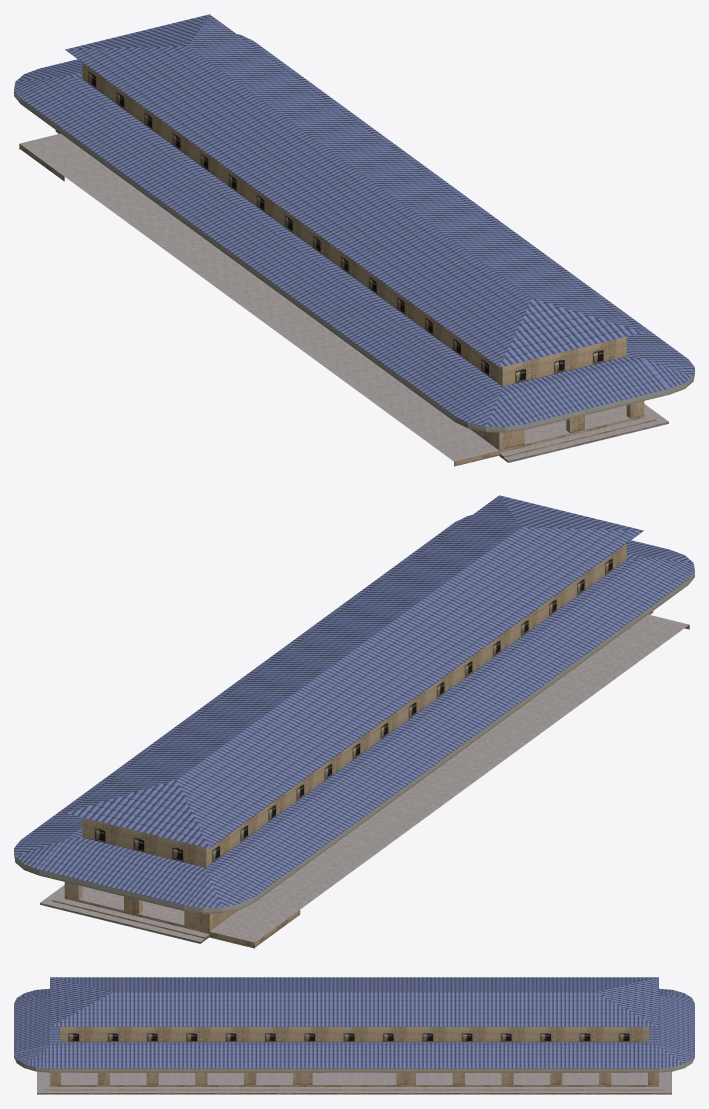
The model's file is vgstrainstation.obj.
The picture shows the model from 3 angles, top to bottom: view 1: azimuth 30°, elevation 25°; view 2: azimuth 150°, elevation 25°; view 3: azimuth 270°, elevation 25°; orthographic projection. The views are drawn at different scales.
Visible parts, largest first — view 1: vgstrainstation; view 2: vgstrainstation; view 3: vgstrainstation.
Part boxes in pixels (x1,y1,x2,y2): vgstrainstation: [14, 14, 694, 466]; vgstrainstation: [14, 495, 694, 948]; vgstrainstation: [14, 977, 694, 1094].
Bounding box in the file's own units: 29.66 × 12.81 × 106.
10 materials, 10 textured.
